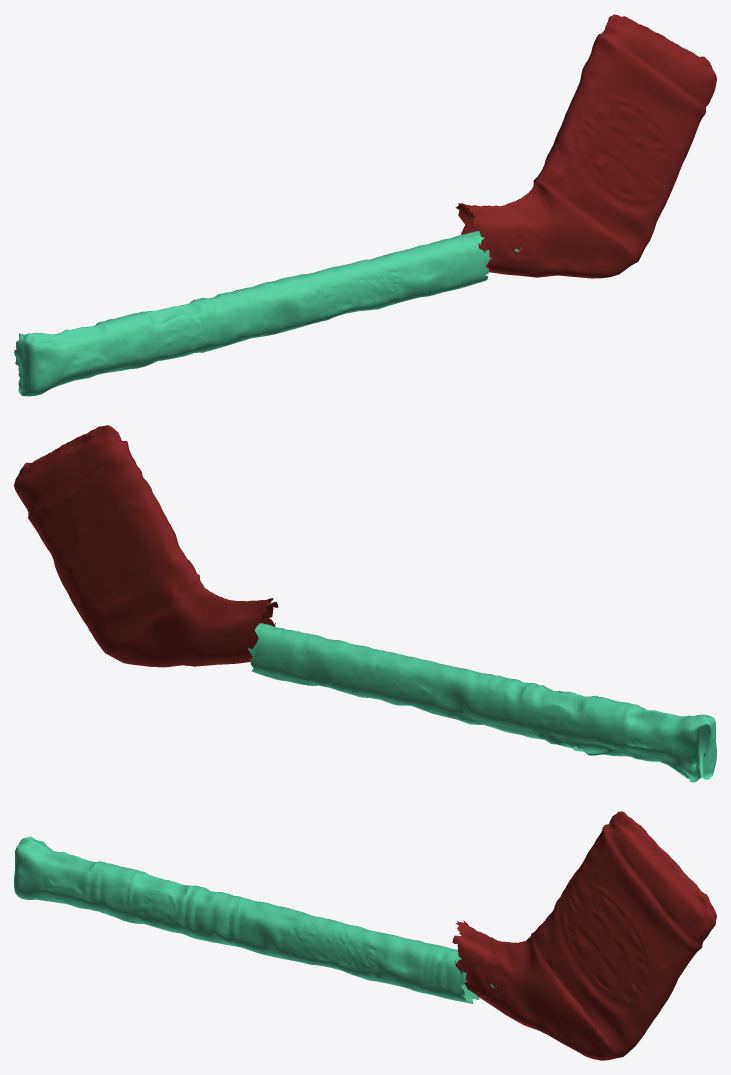
File: object_deformed_8.obj
3 renders of one model, top to bottom at view 1: azimuth 30°, elevation 25°; view 2: azimuth 150°, elevation 25°; view 3: azimuth 330°, elevation 25°, orthographic. The views are drawn at different scales.
Bounding box in the file's own units: 0.6261 × 0.2114 × 0.049.
